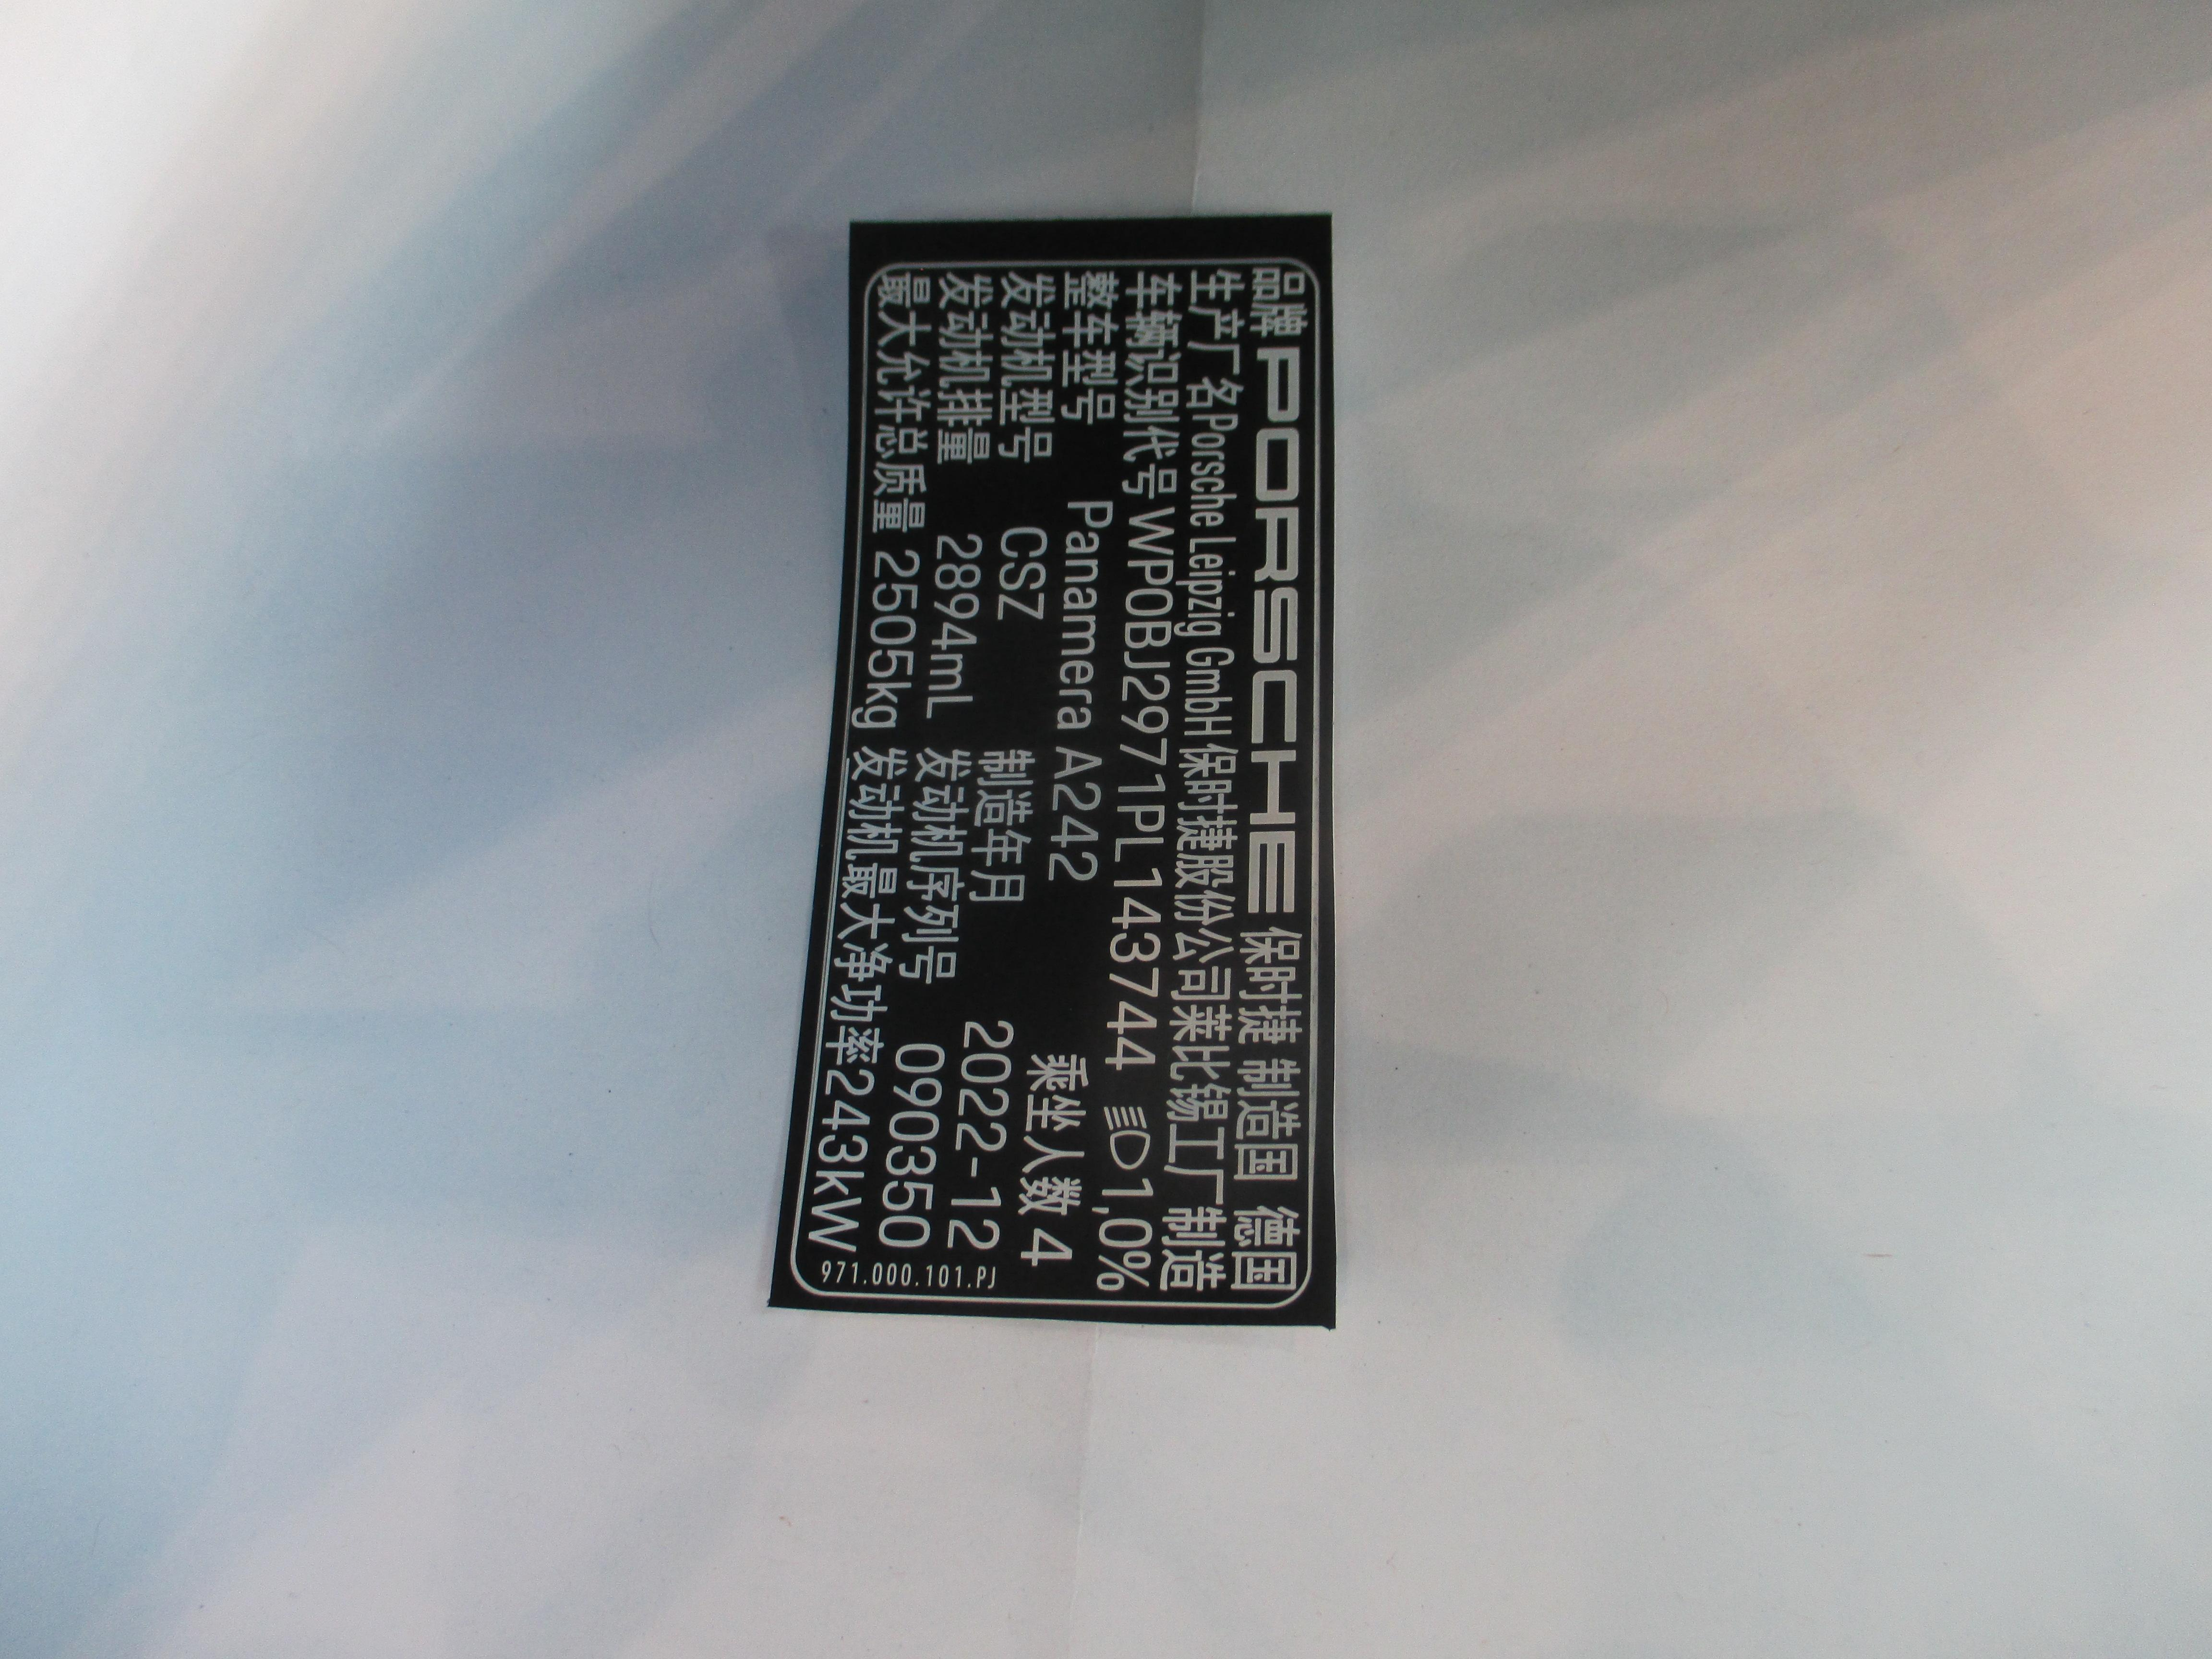Typlabel-China: (798, 265, 1313, 1302)
